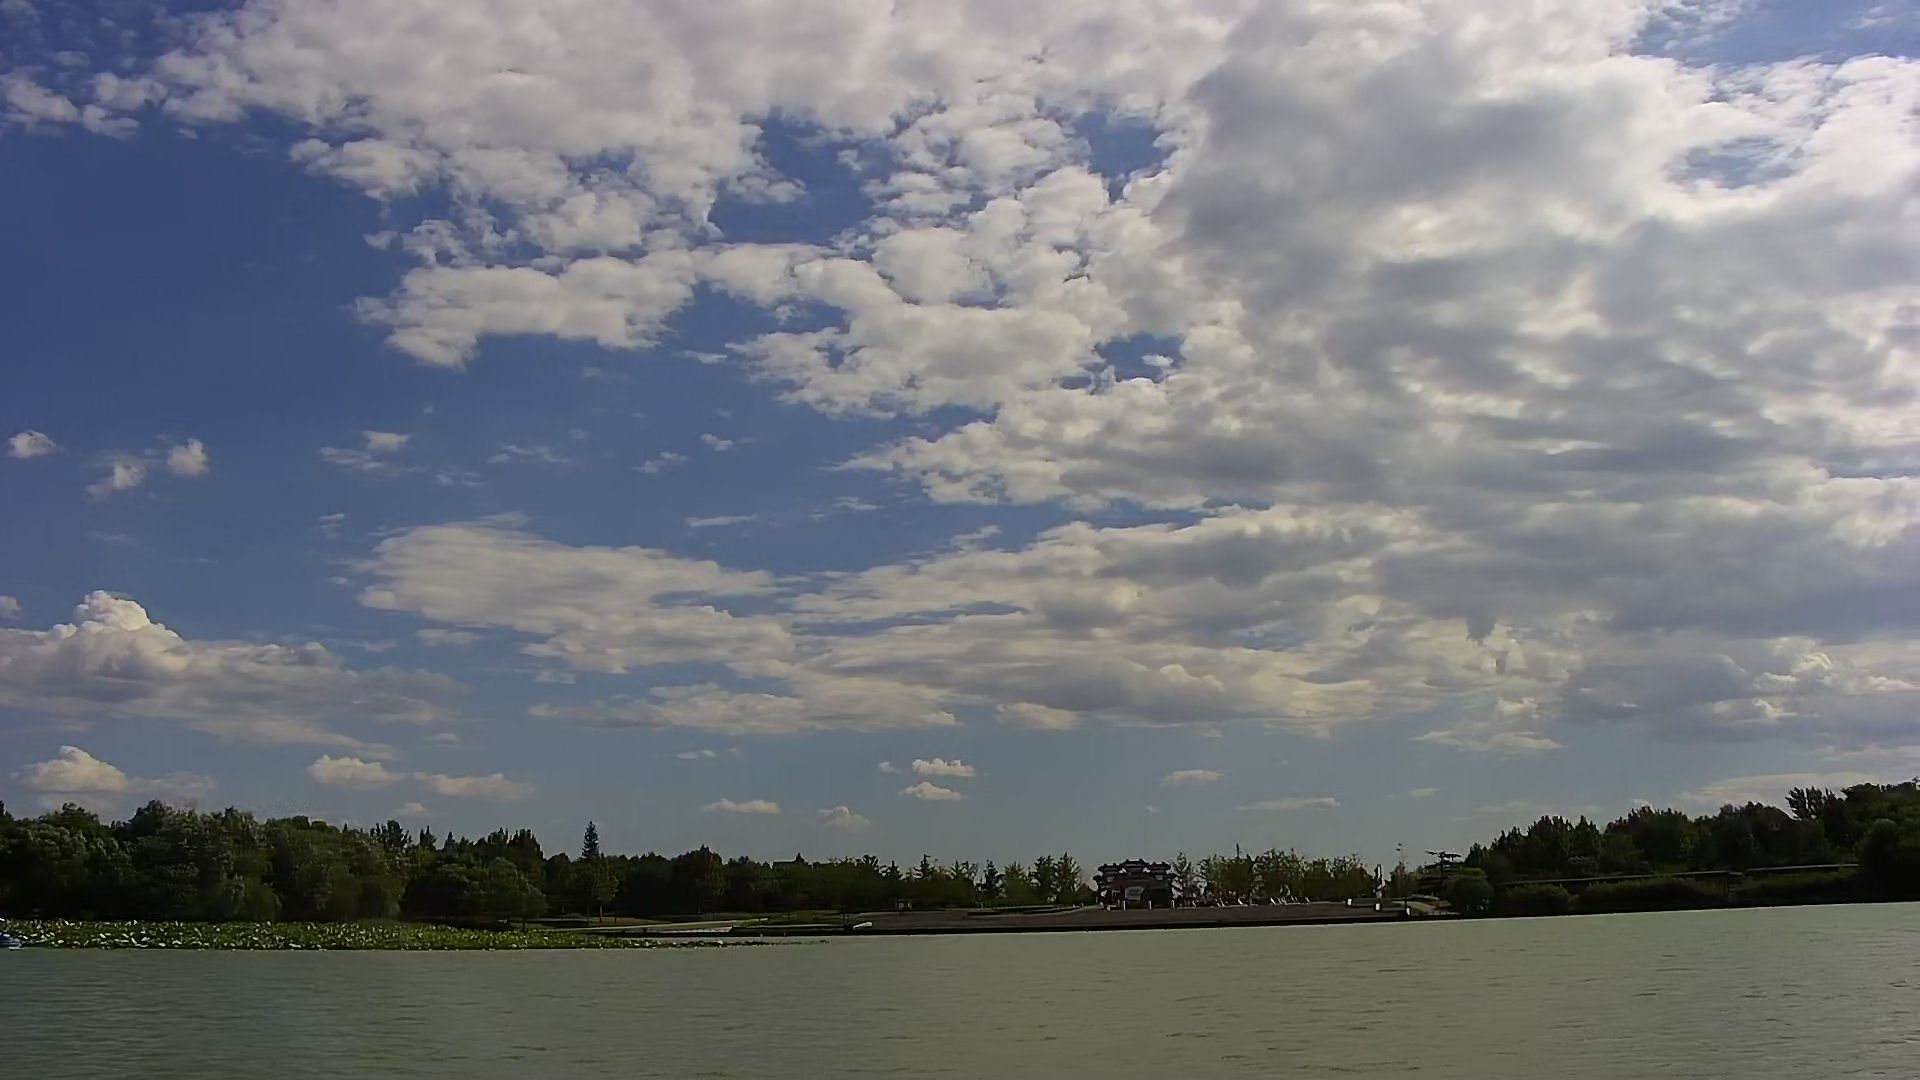harbor: (847, 891, 1470, 934)
